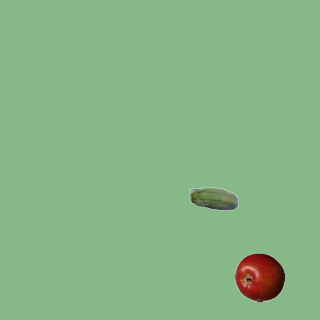Apple Braeburn: (234, 252, 284, 302)
Corn Husk: (188, 175, 238, 225)
